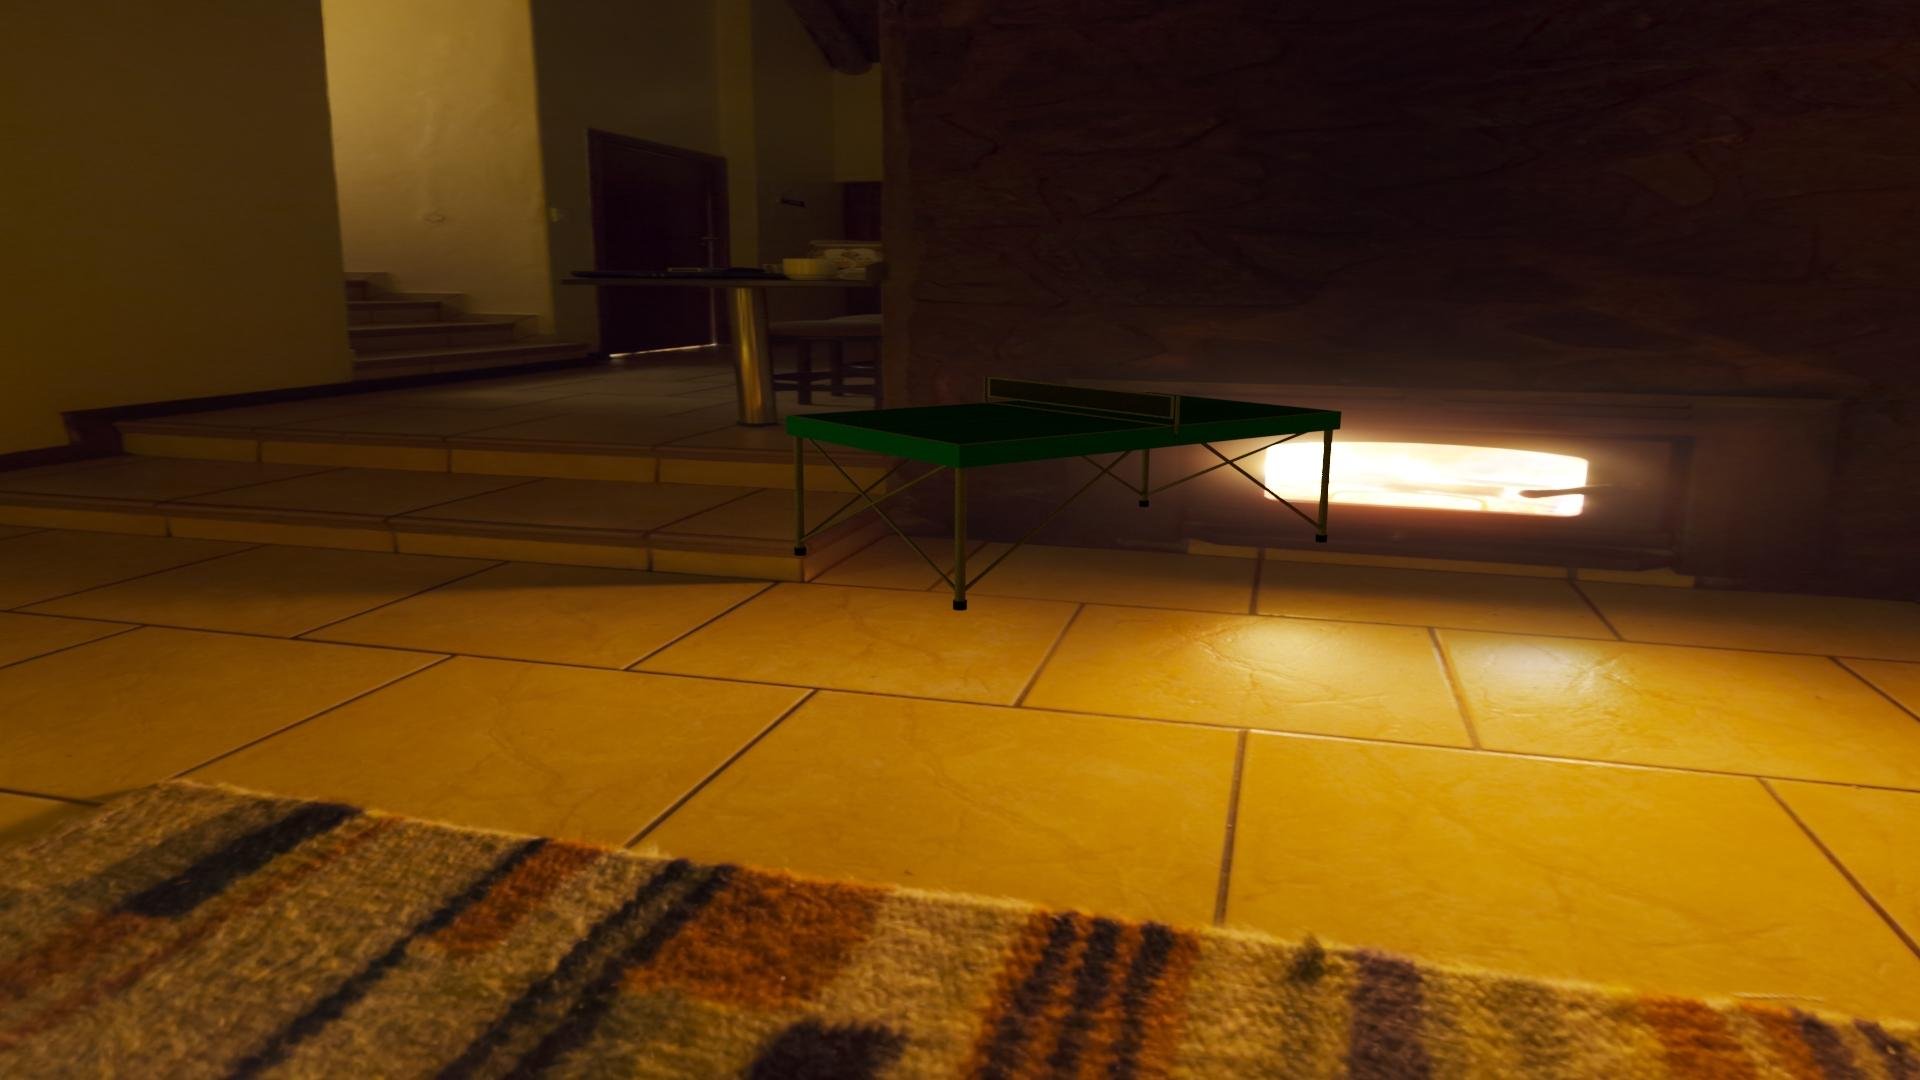table: (791, 392, 1336, 444)
